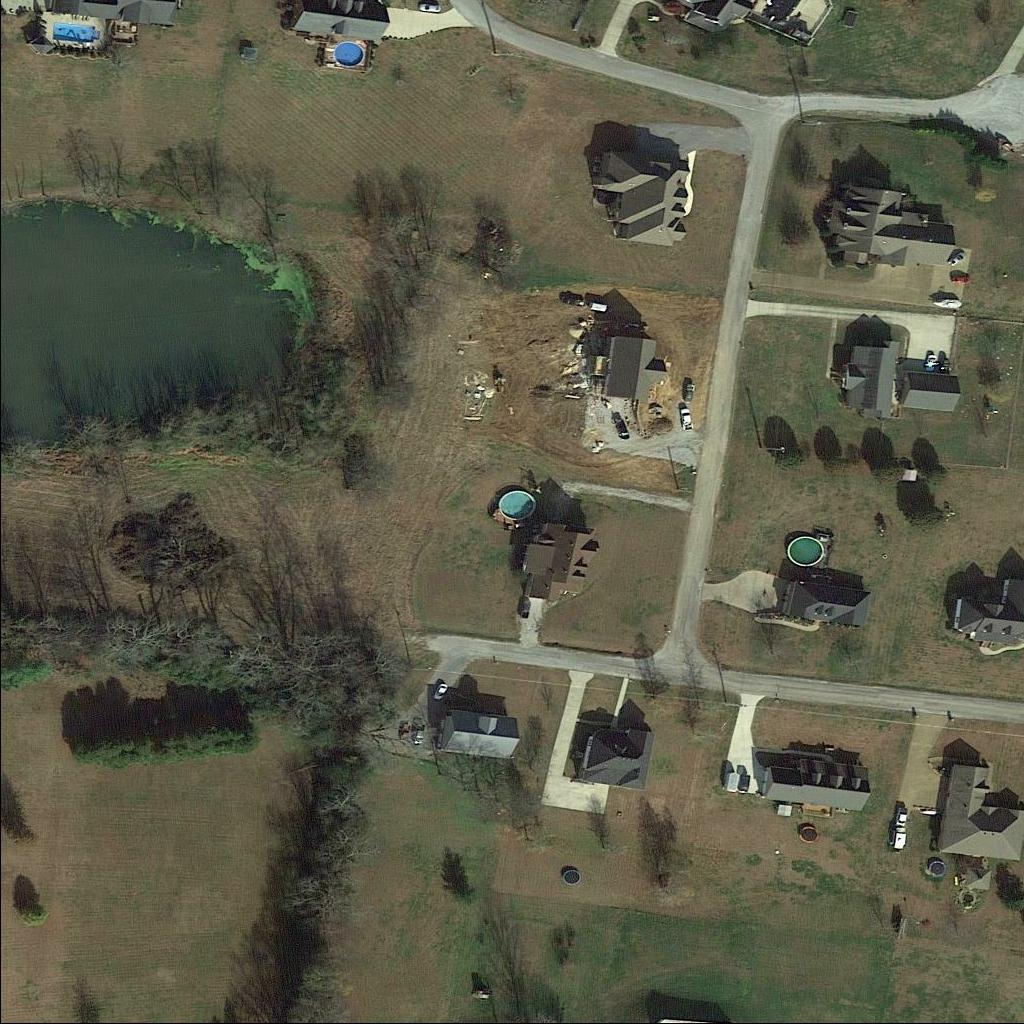ship: (935, 299, 963, 311)
